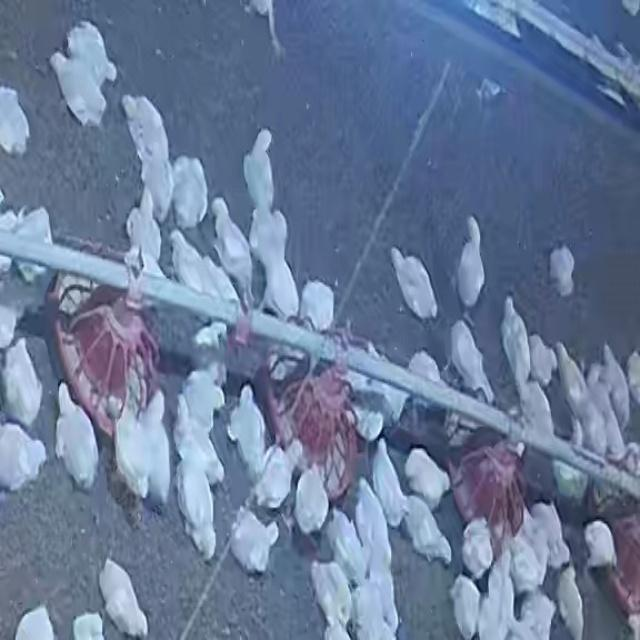chicken: (95, 395, 148, 506), (131, 392, 177, 507), (173, 390, 225, 489), (51, 379, 97, 488), (212, 186, 254, 305), (49, 53, 111, 125), (444, 317, 494, 406), (169, 463, 214, 556), (396, 493, 454, 565), (101, 557, 149, 640), (1, 338, 46, 426), (387, 243, 434, 322), (118, 93, 171, 162), (0, 420, 47, 497), (222, 508, 276, 575), (118, 189, 161, 270), (477, 552, 518, 636), (67, 24, 122, 86), (182, 339, 228, 412), (252, 437, 302, 503), (164, 225, 213, 292), (369, 431, 405, 521), (243, 197, 289, 267), (290, 462, 332, 536), (455, 217, 489, 307), (168, 146, 203, 227), (243, 130, 280, 205), (355, 477, 386, 566), (495, 294, 526, 381), (309, 558, 351, 622), (400, 450, 448, 505), (230, 384, 261, 468), (596, 339, 633, 408), (327, 500, 359, 577), (534, 501, 573, 564), (137, 150, 172, 218), (0, 79, 28, 160), (456, 509, 493, 567), (370, 559, 401, 628), (293, 281, 340, 326), (553, 341, 584, 408), (545, 241, 579, 299), (261, 254, 293, 315), (558, 568, 585, 640), (514, 593, 555, 640), (581, 514, 617, 567), (451, 575, 474, 640), (525, 329, 552, 383)
